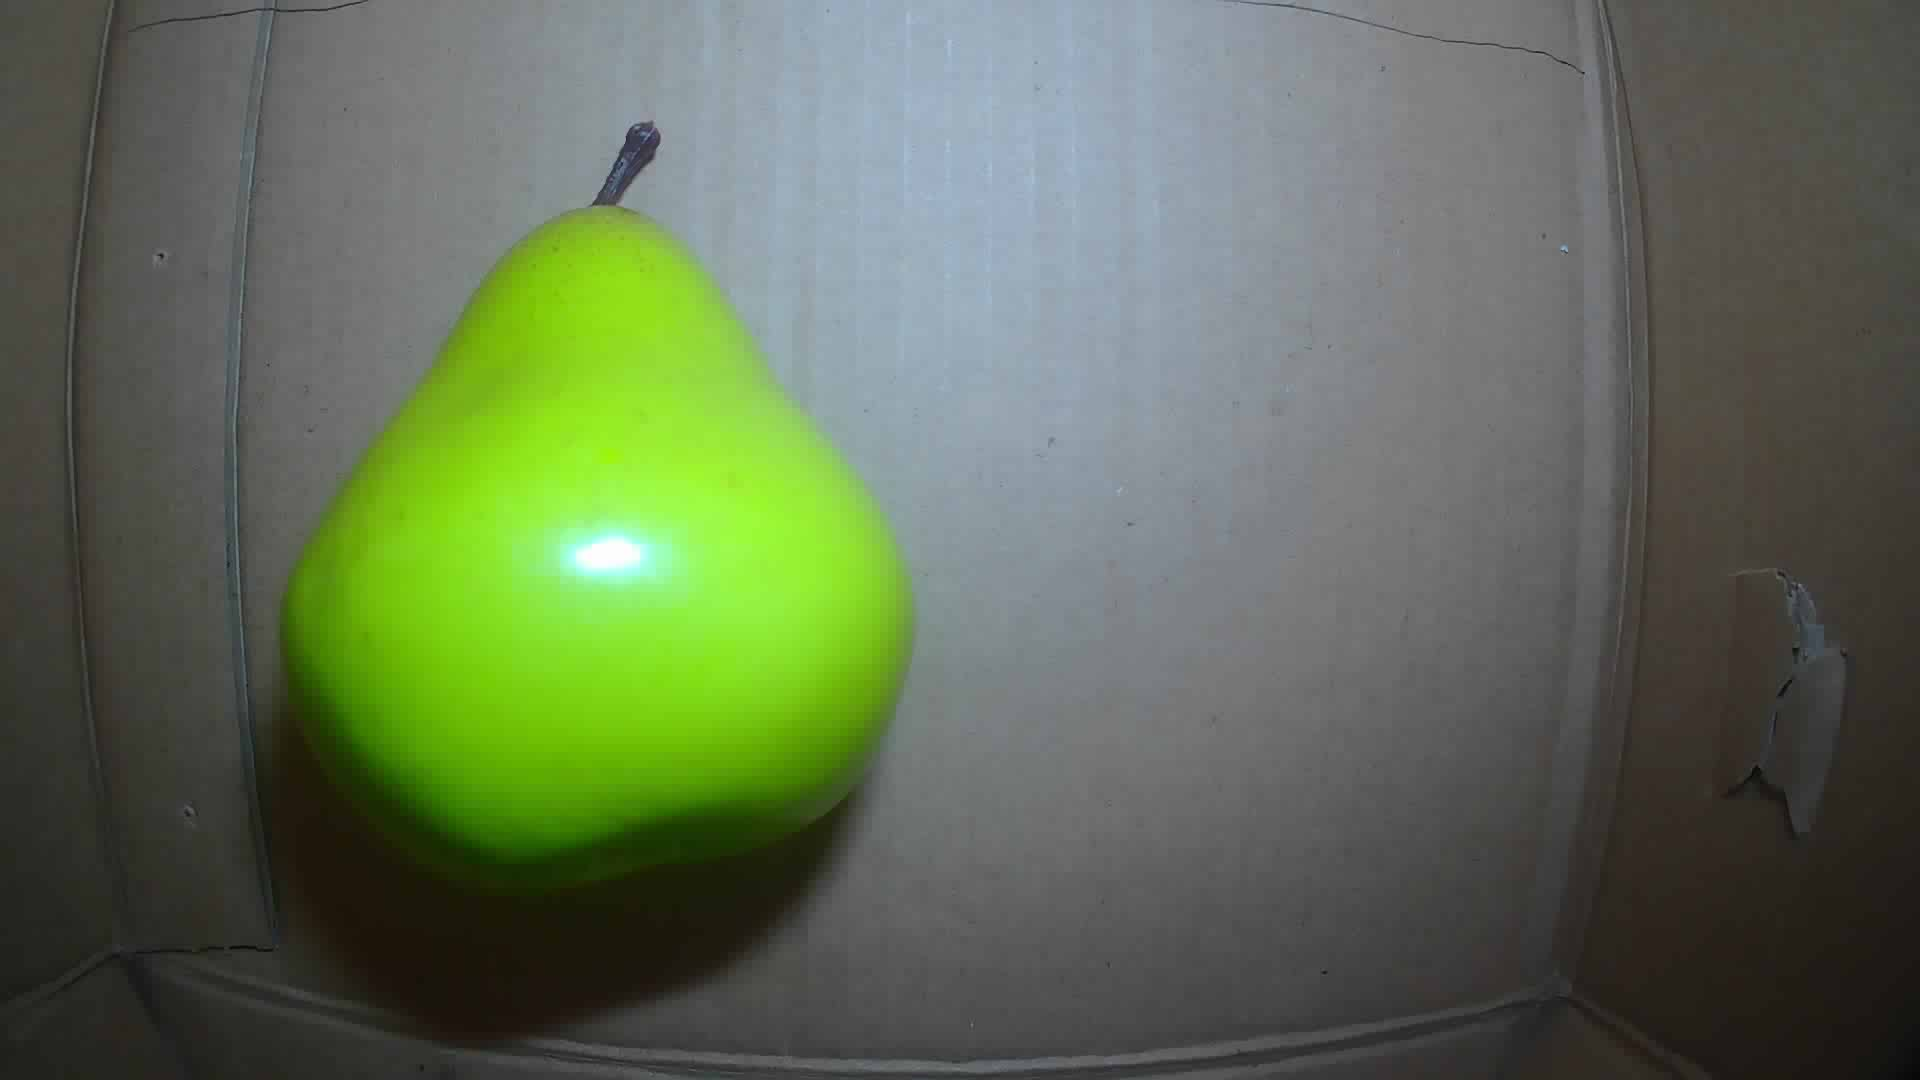pear: (278, 123, 914, 893)
